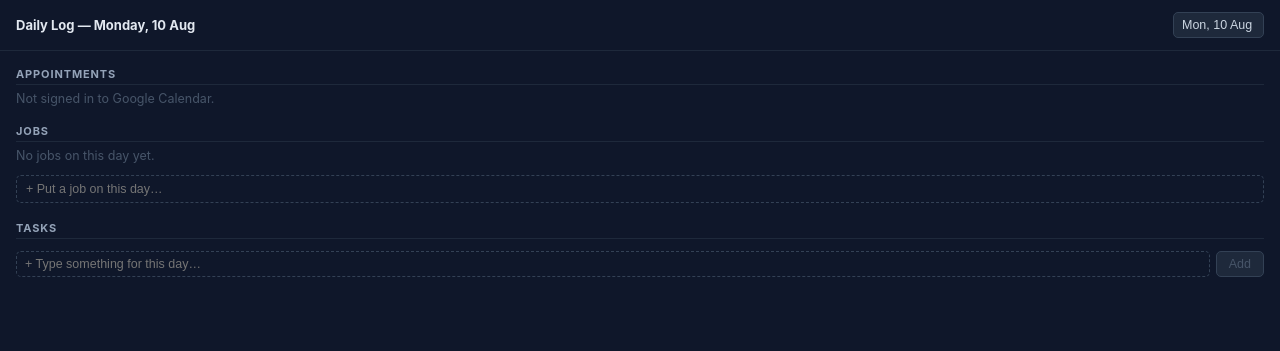
Test: the "+ Put a job on this day…" picker › narrows to what was typed, and keeps the heading above it
Type "electr" into the field named "Search the week" at (640, 189), box [16, 175, 1264, 203]
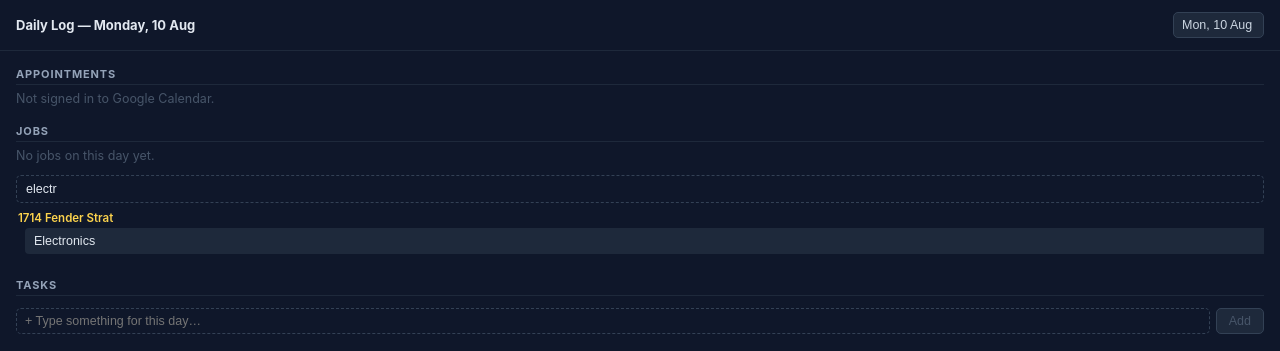
Expected: the text "1714 Fender Strat" is shown once, [18, 211, 113, 225]
